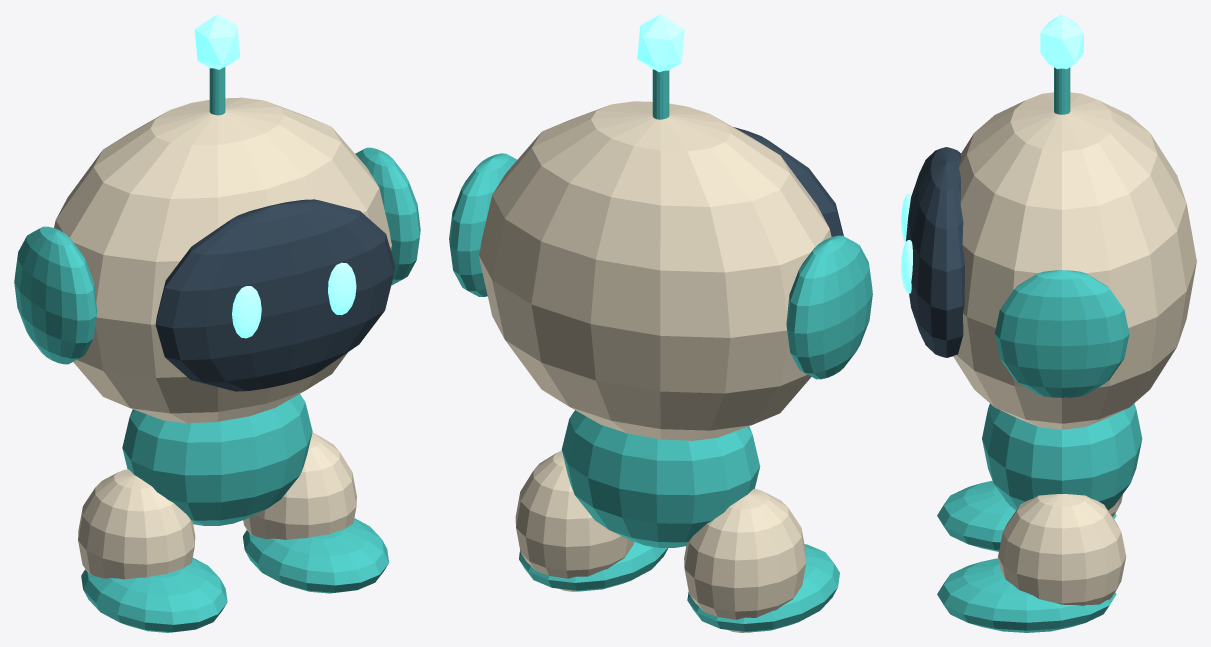
File: Explorer.glb
3 renders of one model, left to right at view 1: azimuth 30°, elevation 25°; view 2: azimuth 150°, elevation 25°; view 3: azimuth 270°, elevation 25°, orthographic. The views are drawn at different scales.
Parts seen in each view (by area): view 1: Ivory, Dark, Teal, Ivory.001, Teal.002, Teal.001, Teal.003, Ivory.002, Teal.004, Glow.002, Glow, Glow.001 (+1 smaller); view 2: Ivory, Teal, Ivory.001, Teal.002, Ivory.002, Teal.004, Teal.001, Teal.003, Glow.002, Dark, Teal.005; view 3: Ivory, Teal.004, Teal, Ivory.002, Dark, Teal.003, Teal.001, Glow.002, Teal.005, Glow.001.
Boxes of the visible parts, left/top/right/bottom form: Ivory: left=54, top=97, right=391, bottom=423; Dark: left=155, top=199, right=395, bottom=391; Teal: left=122, top=394, right=312, bottom=525; Ivory.001: left=78, top=469, right=195, bottom=579; Teal.002: left=14, top=226, right=97, bottom=364; Teal.001: left=81, top=558, right=227, bottom=632; Teal.003: left=243, top=518, right=389, bottom=593; Ivory.002: left=243, top=432, right=356, bottom=539; Teal.004: left=355, top=147, right=420, bottom=285; Glow.002: left=194, top=14, right=240, bottom=69; Glow: left=232, top=286, right=261, bottom=338; Glow.001: left=328, top=262, right=356, bottom=315; Ivory: left=479, top=101, right=831, bottom=440; Teal: left=561, top=410, right=760, bottom=547; Ivory.001: left=684, top=489, right=806, bottom=632; Teal.002: left=786, top=235, right=872, bottom=379; Ivory.002: left=515, top=450, right=633, bottom=591; Teal.004: left=449, top=153, right=516, bottom=296; Teal.001: left=687, top=544, right=839, bottom=632; Teal.003: left=519, top=542, right=668, bottom=591; Glow.002: left=637, top=14, right=684, bottom=72; Dark: left=733, top=127, right=843, bottom=236; Teal.005: left=652, top=69, right=669, bottom=119; Ivory: left=953, top=92, right=1196, bottom=429; Teal.004: left=995, top=270, right=1129, bottom=397; Teal: left=982, top=403, right=1142, bottom=510; Ivory.002: left=998, top=494, right=1126, bottom=605; Dark: left=906, top=147, right=964, bottom=357; Teal.003: left=937, top=558, right=1116, bottom=632; Teal.001: left=937, top=480, right=1116, bottom=551; Glow.002: left=1040, top=14, right=1083, bottom=69; Teal.005: left=1054, top=67, right=1070, bottom=114; Glow.001: left=901, top=240, right=912, bottom=293.
Bounding box in the file's own units: 1.34 × 1.95 × 0.922.
